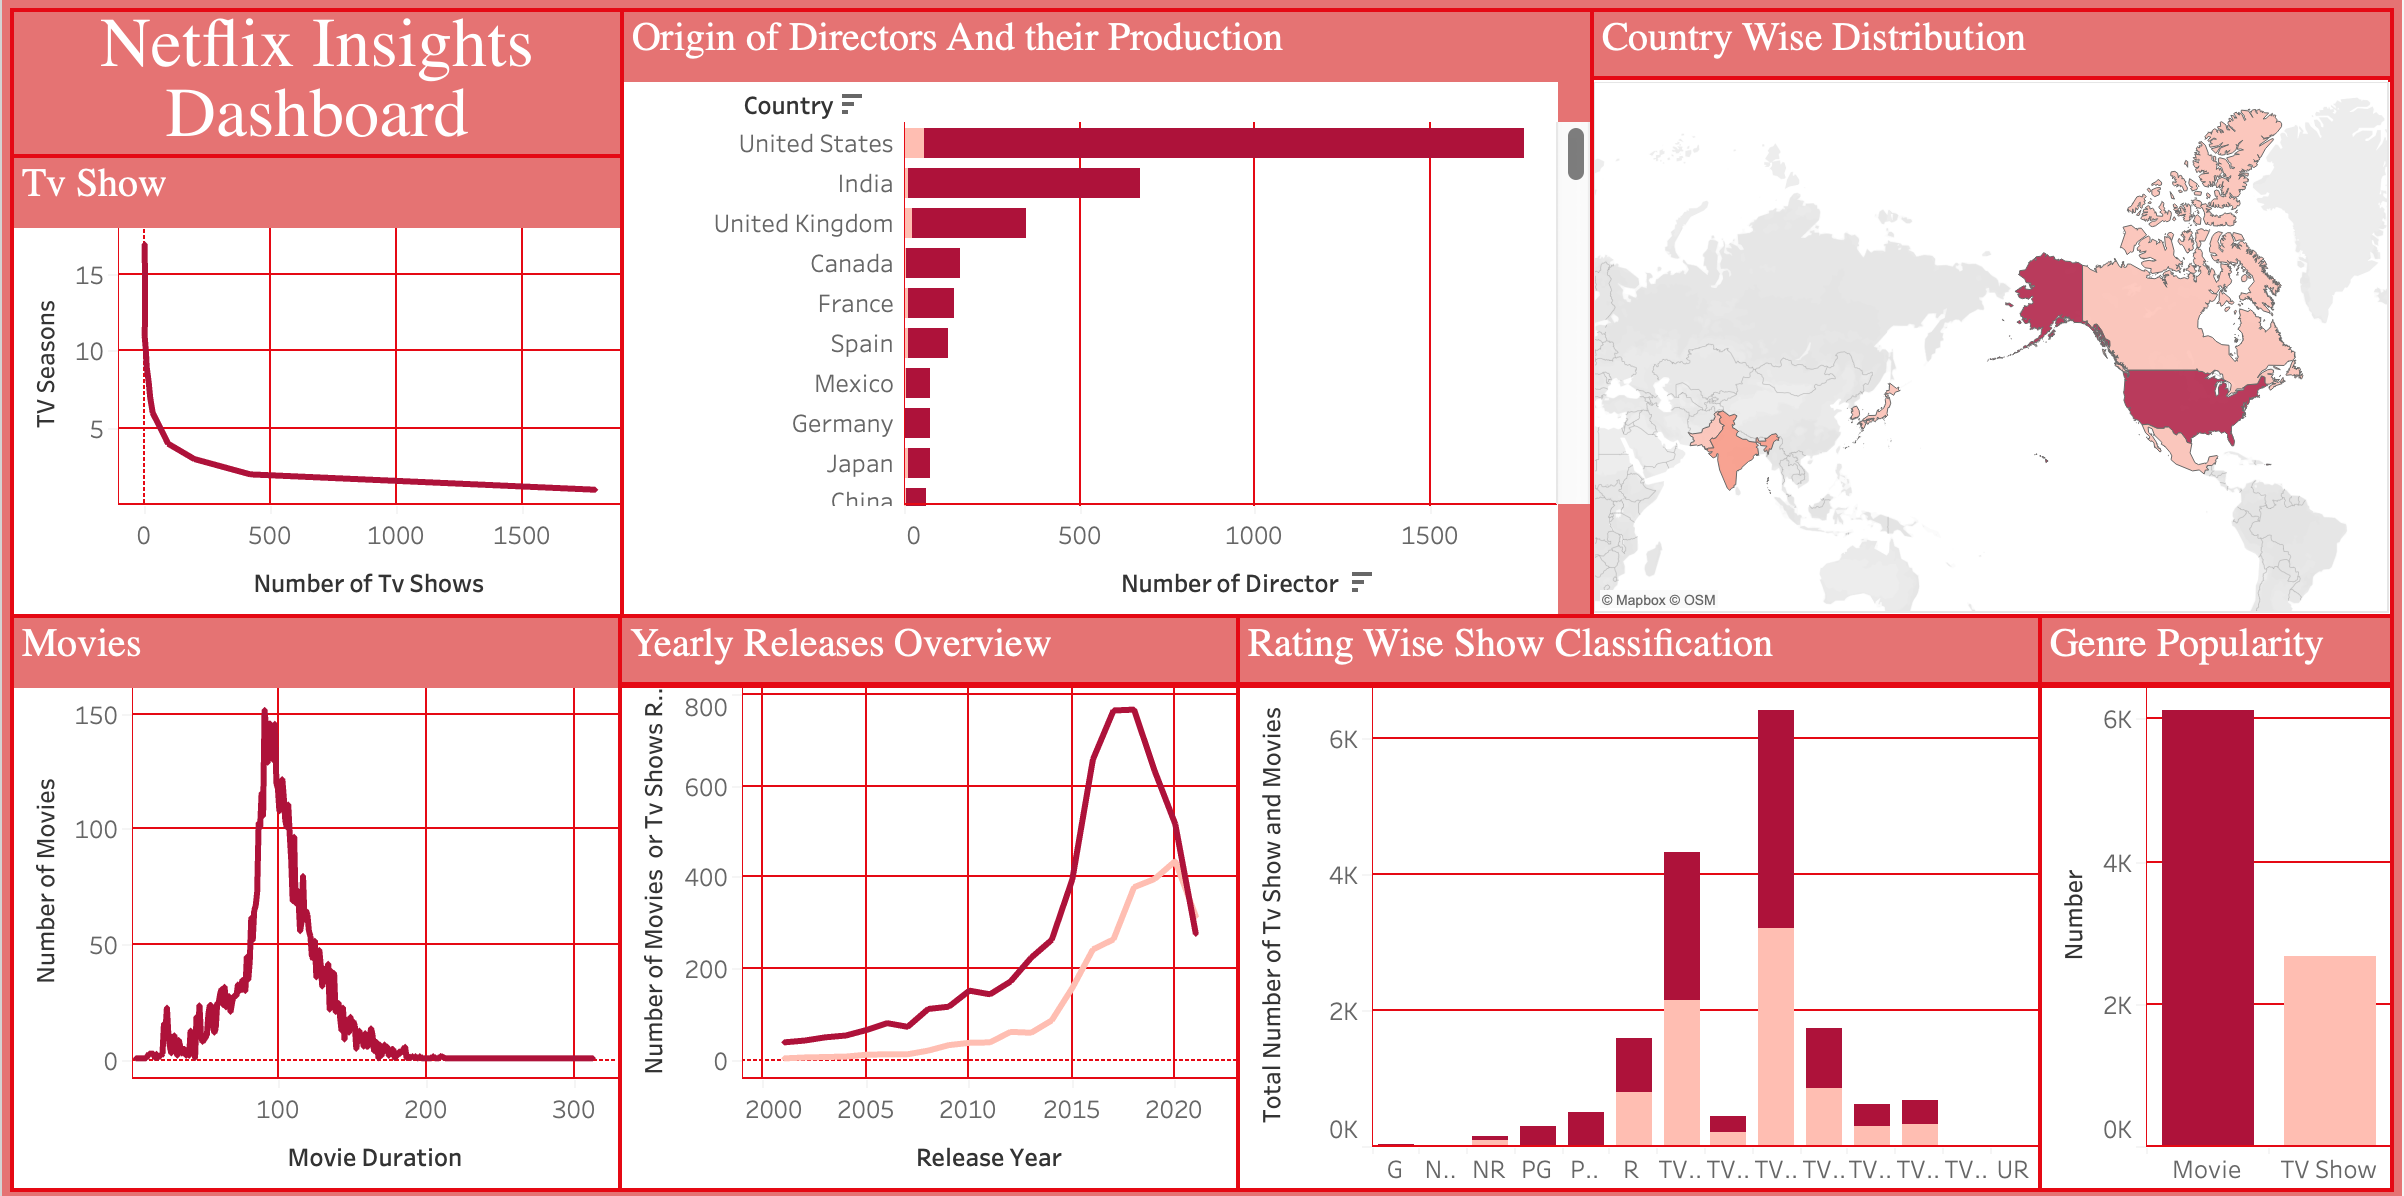

Layout of this report page (visuals, bound fields, positions):
{"tool":"tableau","page":{"name":"Dashboard 1","canvas":[1200,600],"ordinal":0},"visuals":[{"type":"dashboard-object","param":"[com.tableau.addfilters].[0.0.0].[https://extensions.tableauusercontent.com/sand","box":[0,0,1200,600]},{"type":"text","box":[5,5,305,73]},{"type":"worksheet","title":"Sheet 5","mark":"Automatic","rows":["country"],"cols":["director"],"box":[310,5,485,303]},{"type":"worksheet","title":"Sheet 2","mark":"Automatic","box":[795,5,400,303]},{"type":"worksheet","title":"TVshowtime","mark":"Automatic","rows":["TV_Seasons"],"cols":["show_id (processed_netflix_data.csv)"],"box":[5,78,305,230]},{"type":"worksheet","title":"Sheet 6","mark":"Automatic","rows":["show_id (processed_netflix_data.csv)"],"cols":["Movie_Duration"],"box":[5,308,304,287]},{"type":"worksheet","title":"Sheet 1","mark":"Automatic","rows":["Total_no"],"cols":["release_year (Netflix Mysql  1.csv)"],"box":[309,308,309,287]},{"type":"worksheet","title":"Sheet 3","mark":"Automatic","rows":["Total (Netflix Mysql  3.csv)"],"cols":["rating (Netflix Mysql  3.csv)"],"box":[618,308,401,287]},{"type":"worksheet","title":"Sheet 4","mark":"Automatic","rows":["total"],"cols":["type (Netflix Mysql  4.csv)"],"box":[1019,308,176,287]},{"type":"legend","title":"Sheet 2","param":"[federated.0z8hv681fx87ih19jd05y0l237ty].[sum:Total:qk]","box":[859,314,162,36]}]}

Visuals, with their boxes in screenshot pixels (x1, y1, x2, y2), scaled from the page's 1200x600 canvas onto the 2404x1196 screenshot:
dashboard-object: Rect(0, 0, 2403, 1195)
text: Rect(10, 10, 621, 155)
"Sheet 5" worksheet: Rect(621, 10, 1593, 614)
"Sheet 2" worksheet: Rect(1593, 10, 2394, 614)
"TVshowtime" worksheet: Rect(10, 155, 621, 614)
"Sheet 6" worksheet: Rect(10, 614, 619, 1186)
"Sheet 1" worksheet: Rect(619, 614, 1238, 1186)
"Sheet 3" worksheet: Rect(1238, 614, 2041, 1186)
"Sheet 4" worksheet: Rect(2041, 614, 2394, 1186)
"Sheet 2" legend: Rect(1721, 626, 2045, 698)
